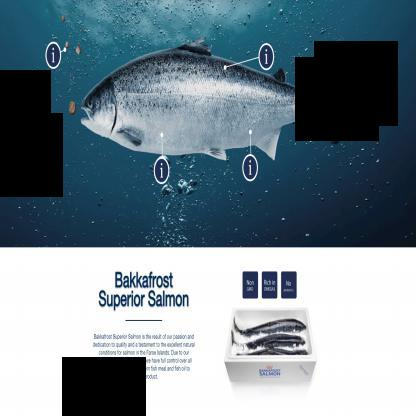fish: (82, 38, 340, 161)
